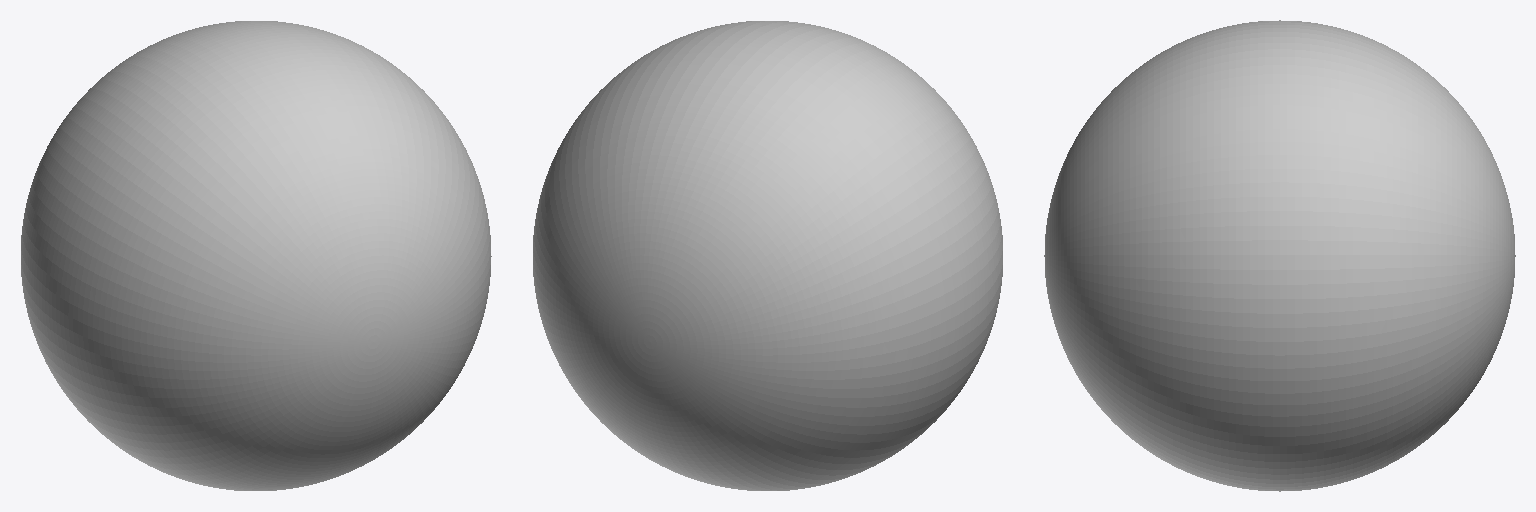
The model's file is skySphere.obj.
3 views of the same model, side by side, from view 1: azimuth 30°, elevation 25°; view 2: azimuth 150°, elevation 25°; view 3: azimuth 270°, elevation 25° (orthographic).
Visible parts, largest first — view 1: Sphere; view 2: Sphere; view 3: Sphere.
Part boxes in pixels (left/top/right/bottom): Sphere: left=21, top=21, right=491, bottom=490; Sphere: left=533, top=21, right=1002, bottom=490; Sphere: left=1044, top=20, right=1515, bottom=491.
Size of the model in its own units: 1.95 by 1.95 by 1.95.